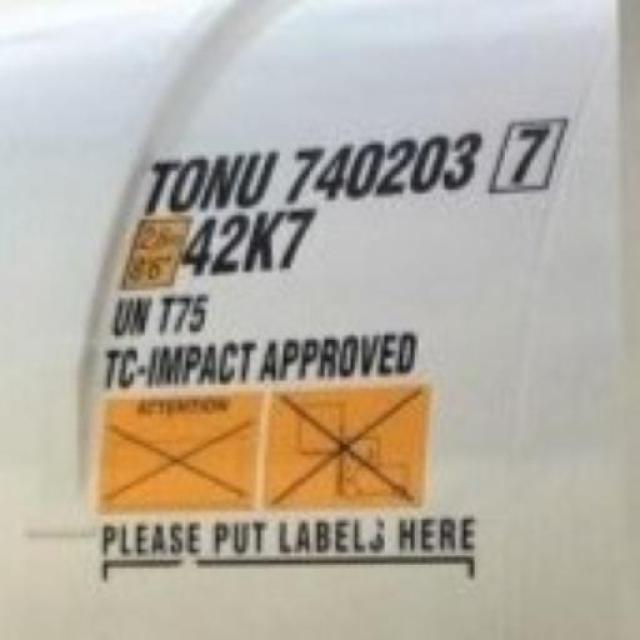ISO: (190, 209, 313, 274)
container_number: (136, 122, 568, 215)
